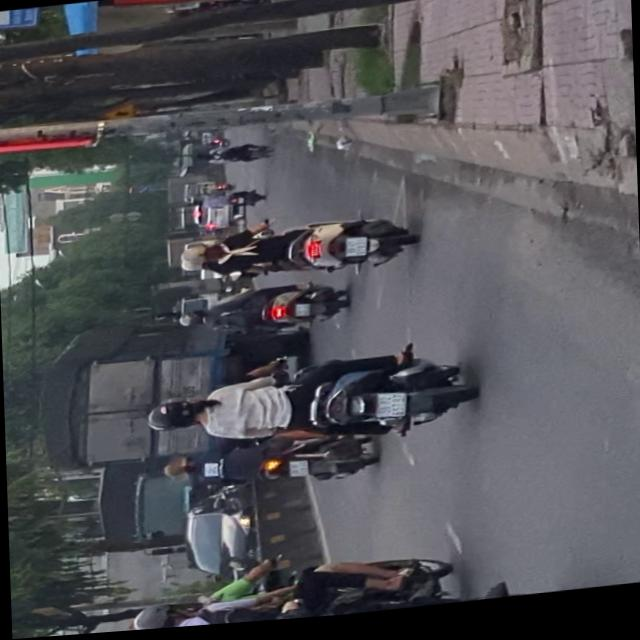helmet: (144, 399, 205, 437), (129, 605, 186, 632), (179, 245, 218, 270)
licenseplate: (140, 344, 477, 467), (121, 549, 475, 633), (172, 216, 416, 294)
nohelmet: (374, 398, 403, 425), (343, 243, 364, 263)
